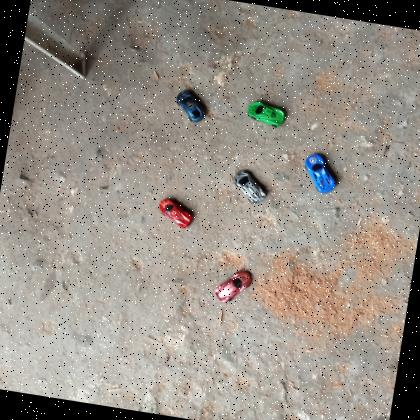Car: (299, 150, 341, 196), (212, 265, 255, 306), (230, 168, 271, 208), (172, 87, 210, 125), (154, 196, 196, 230), (244, 98, 288, 129)
